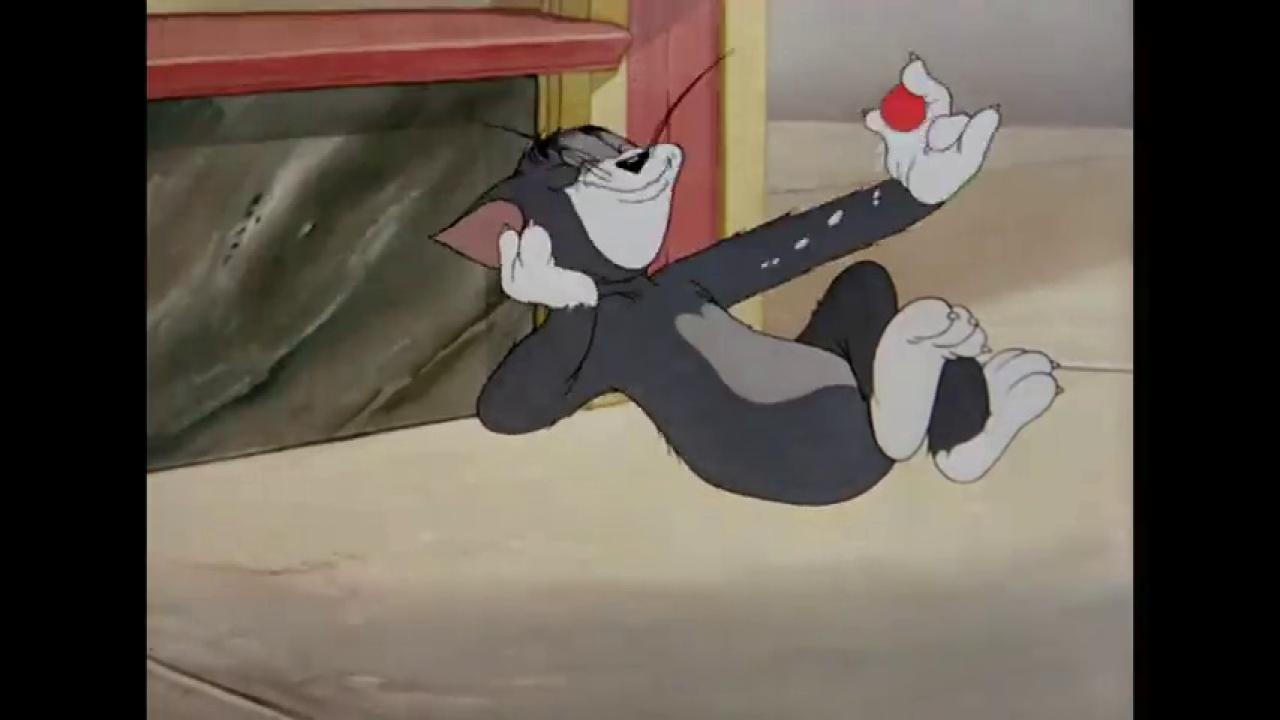Tom: (426, 49, 1066, 507)
